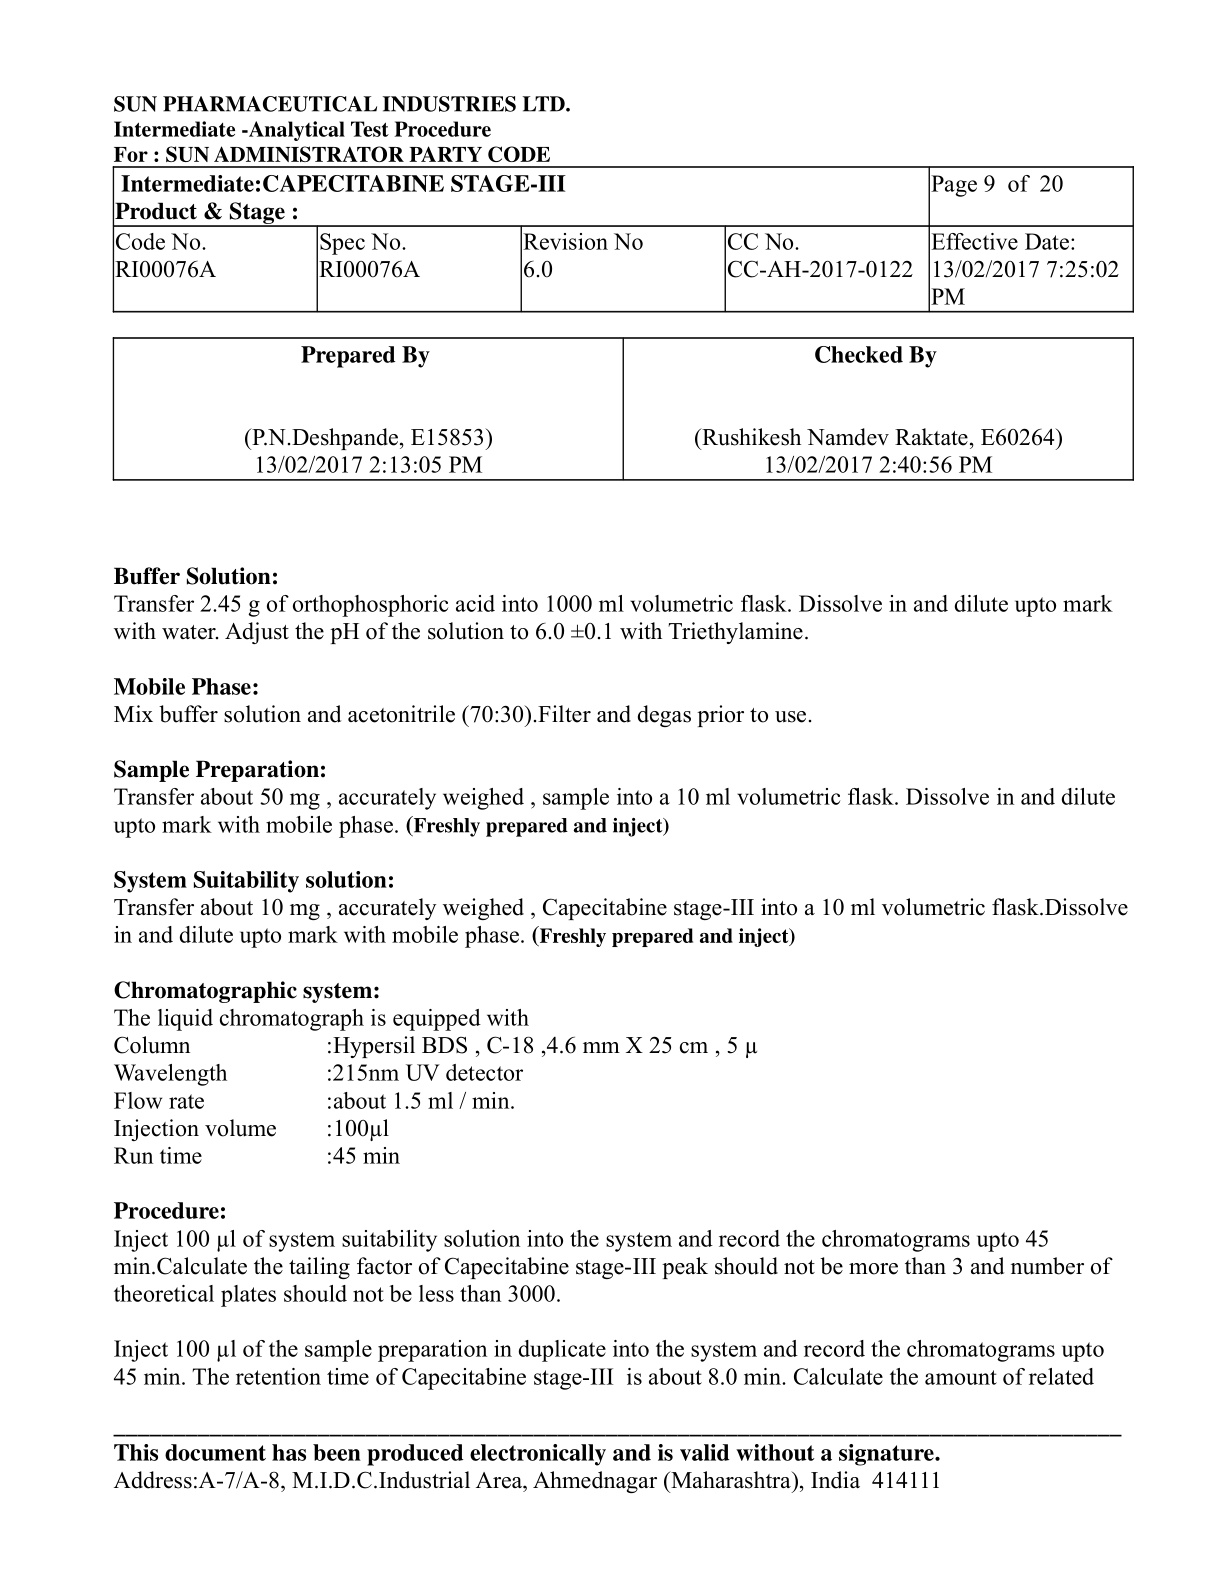full_lined: (111, 336, 1135, 482)
merged_cells: (112, 165, 1135, 312)
nolines: (113, 1032, 761, 1165)
